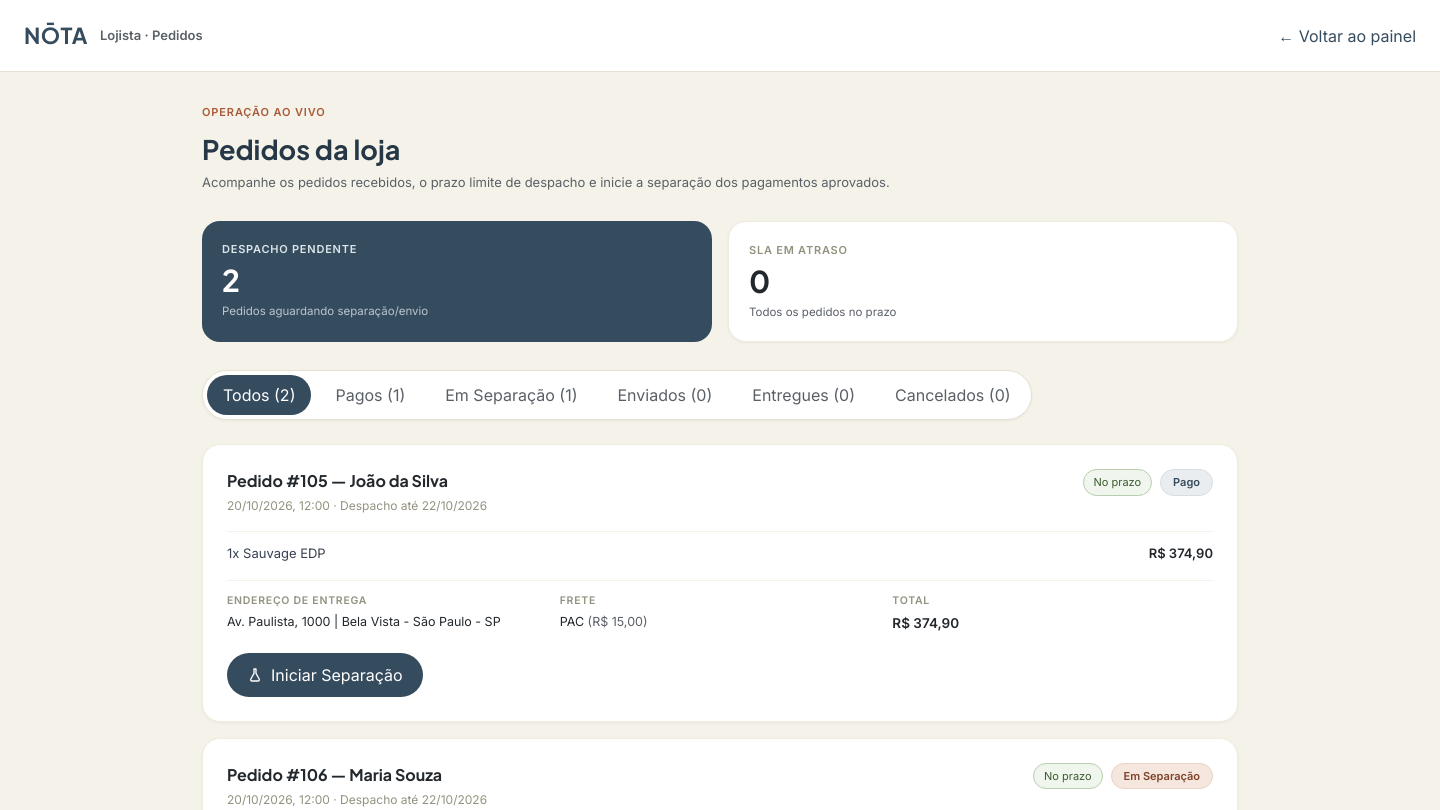
StoreOrdersPage › a mudança do filtro de status atualiza a lista exibida
expect the heading "Pedido #105 — João da Silva" is shown: met, box [227,470,448,491]
expect the heading "Pedido #106 — Maria Souza" is shown: met, box [227,764,442,785]
Click the button "Pagos (1)". click: (370, 395)
box: [320,375,421,415]
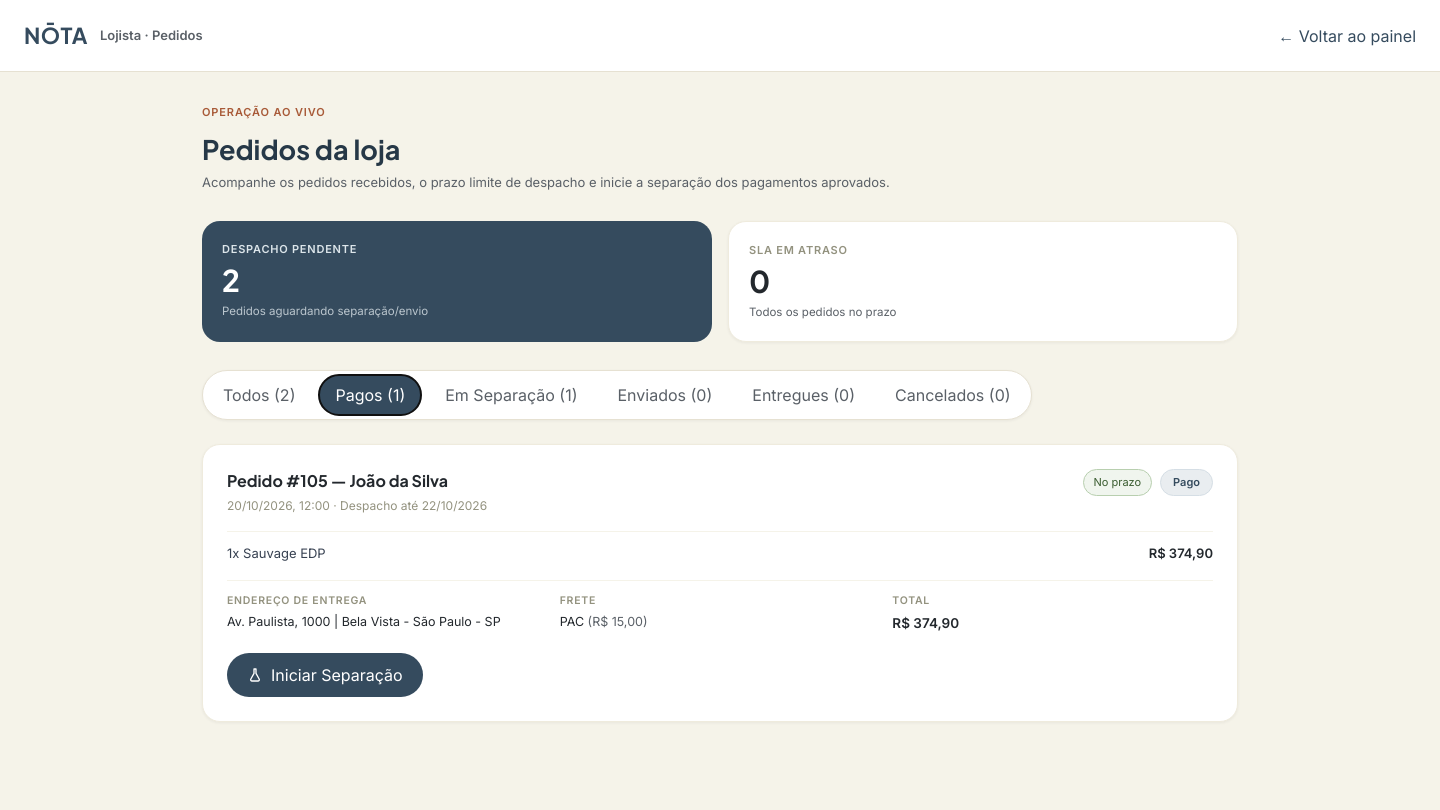
expect the heading "Pedido #105 — João da Silva" is shown: met, box [227,470,448,491]
expect the heading "Pedido #106 — Maria Souza" is gone: met
Click the button "Em Separação (1)". click: (511, 395)
box: [429,375,594,415]
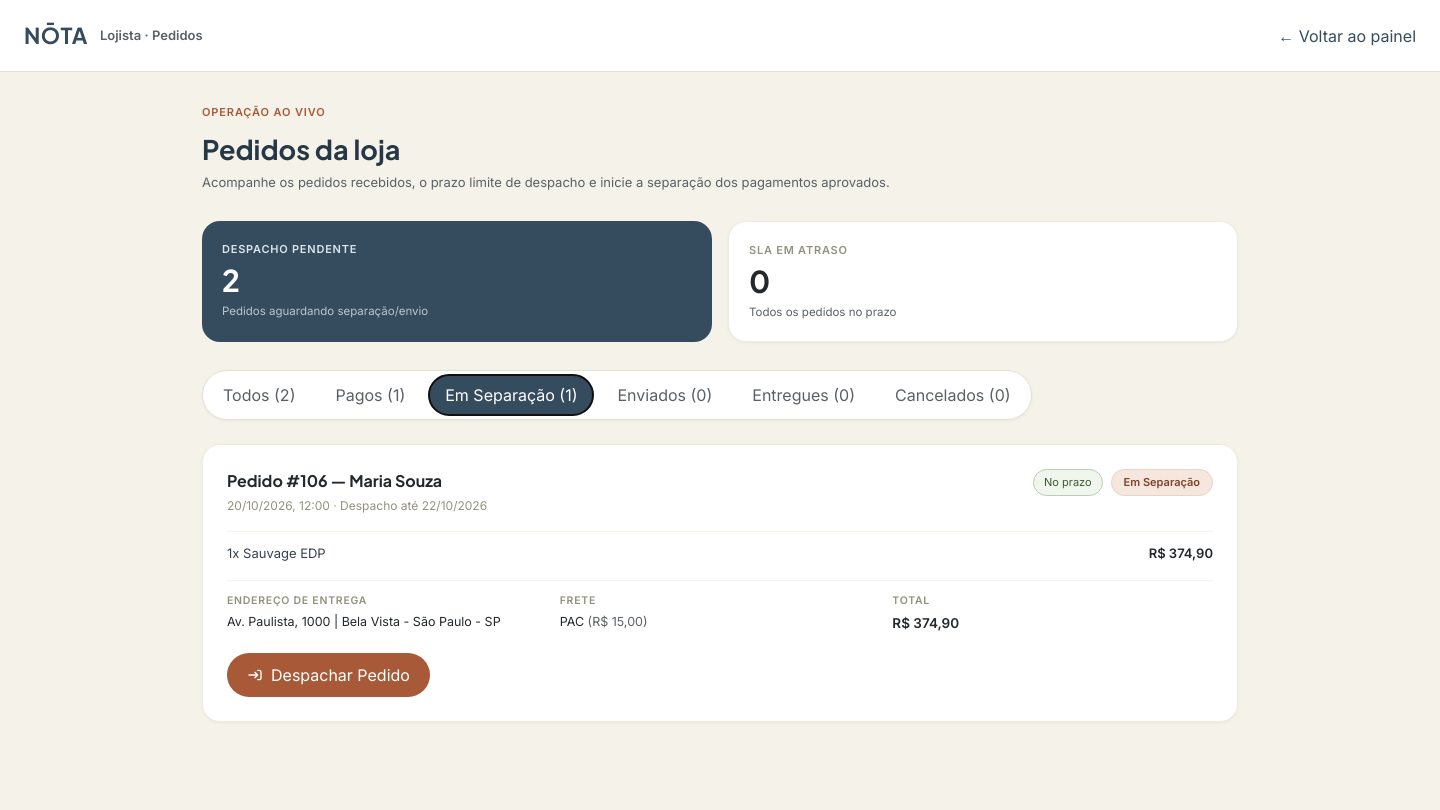
expect the heading "Pedido #105 — João da Silva" is gone: met
expect the heading "Pedido #106 — Maria Souza" is shown: met, box [227,470,442,491]
